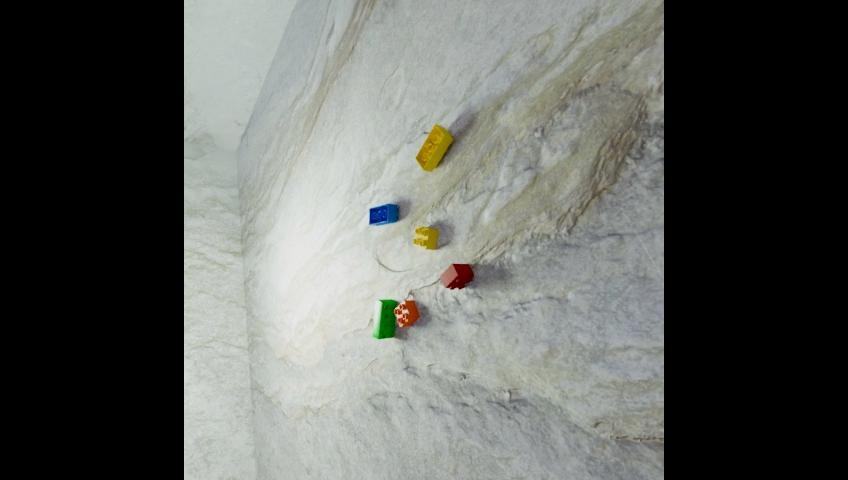2x2_orange: (393, 300, 419, 327)
2x2_red: (439, 264, 473, 289)
2x2_yellow: (412, 226, 438, 250)
4x2_blue: (368, 204, 398, 225)
4x2_green: (372, 299, 396, 339)
4x2_yellow: (414, 125, 452, 172)
